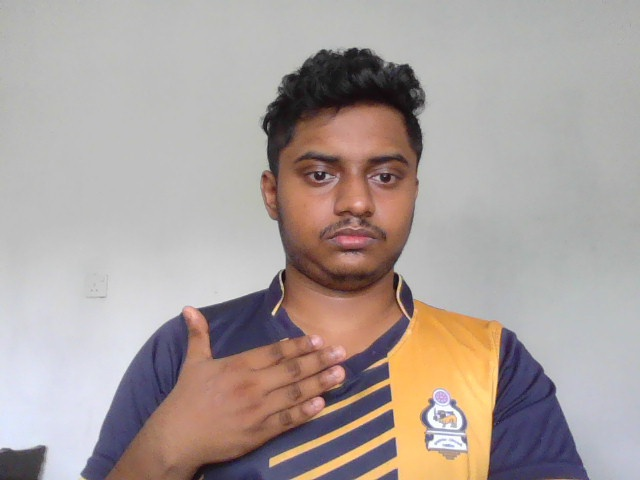Please: (168, 302, 349, 462)
